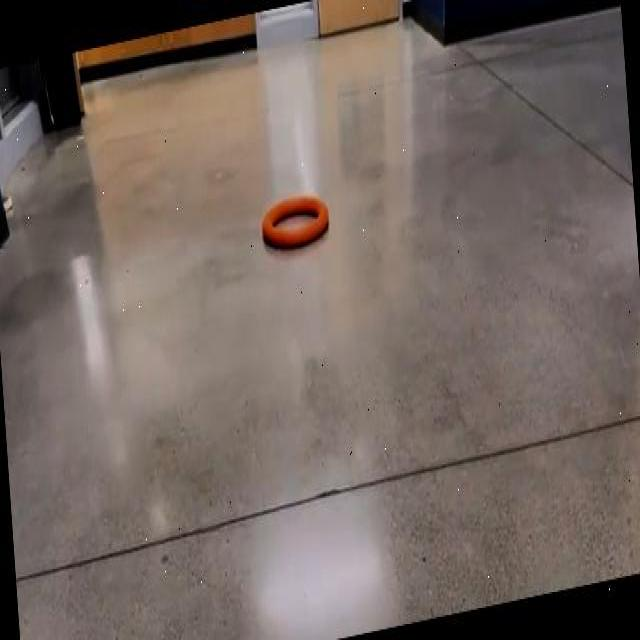note: (262, 194, 328, 247)
